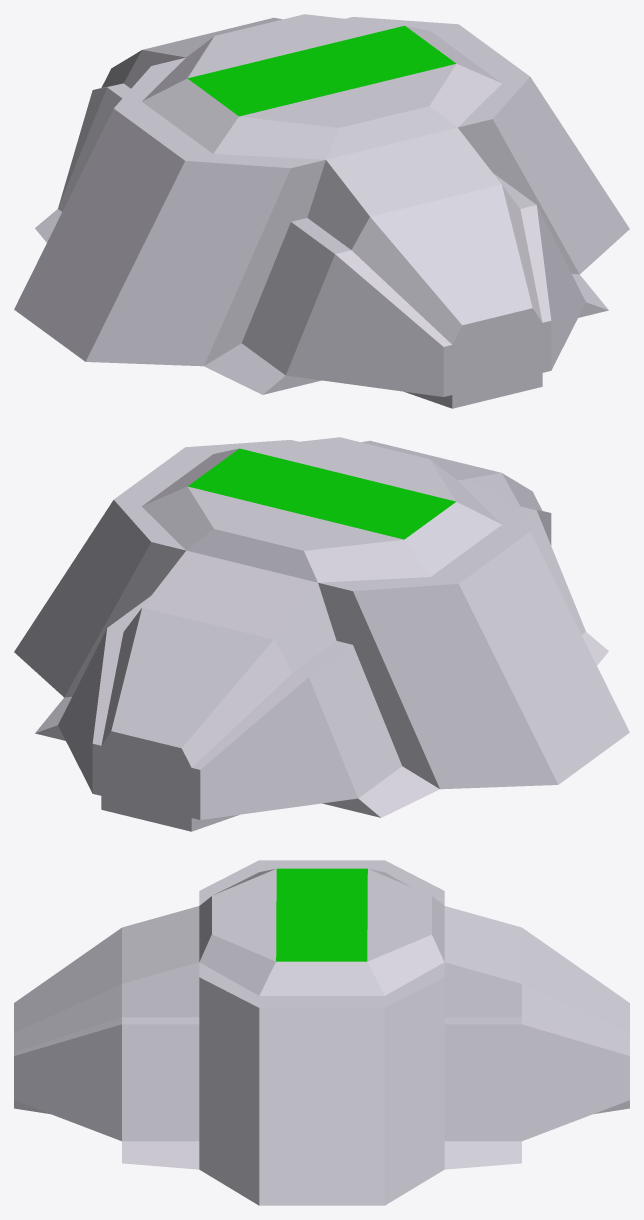
File: part.baseNose.fbx
The picture shows the model from 3 angles, top to bottom: view 1: azimuth 30°, elevation 25°; view 2: azimuth 150°, elevation 25°; view 3: azimuth 270°, elevation 25°; orthographic projection. The views are drawn at different scales.
Parts seen in each view (by area): view 1: part.baseNose; view 2: part.baseNose; view 3: part.baseNose.
Part boxes in pixels (x1,y1,x2,y2): part.baseNose: (14, 14, 629, 408); part.baseNose: (14, 437, 629, 831); part.baseNose: (14, 860, 629, 1205).
Size of the model in its own units: 2.52 by 0.8781 by 2.82.
